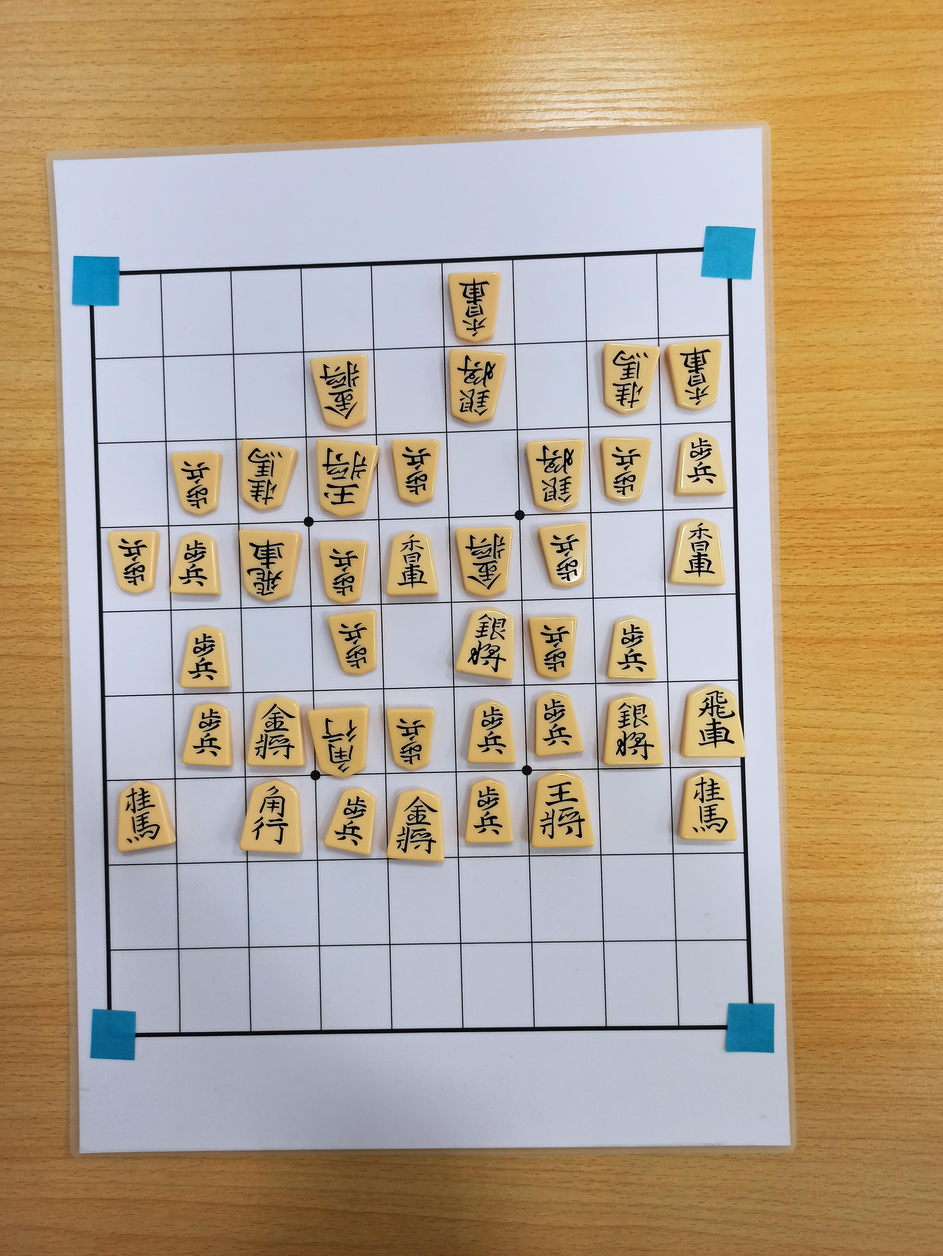board: (90, 251, 753, 1037)
